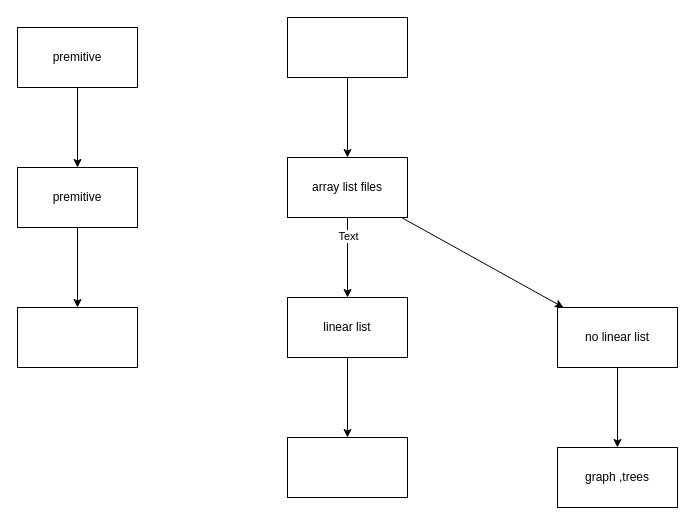
This 695x525 diagram has some shape labels left out. The shapes that lost their labels are listed below. From the top down, each one's box as (x1, y1, x2, y2) in pixels, then its label:
(286, 16, 408, 78): non premitive
(16, 306, 138, 368): integer float character pointer
(286, 436, 408, 498): stack queue
